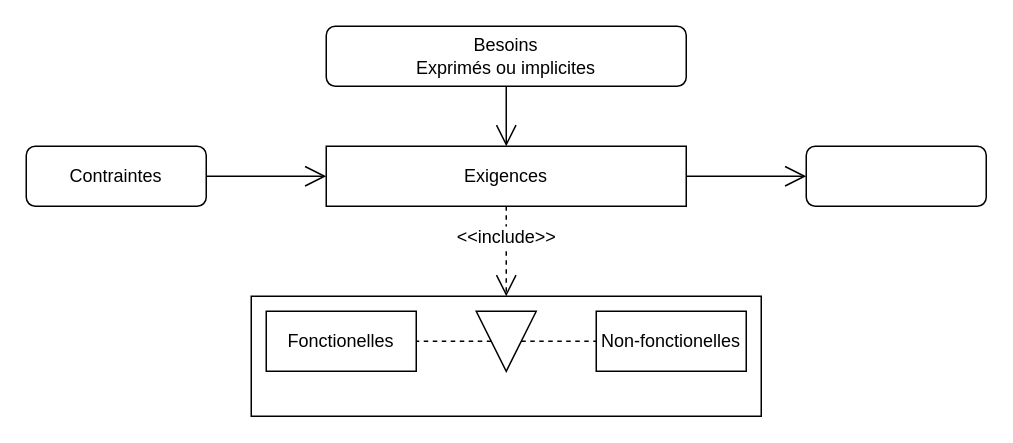
Image size: 1013x443. Some labels were removed from this diagram. The shapes that lost their labels are listed below. From the top down, each one's centre as x and y in pixels, then its label:
At (x=895, y=175): "Produit".
At (x=505, y=340): "Dépendances".
